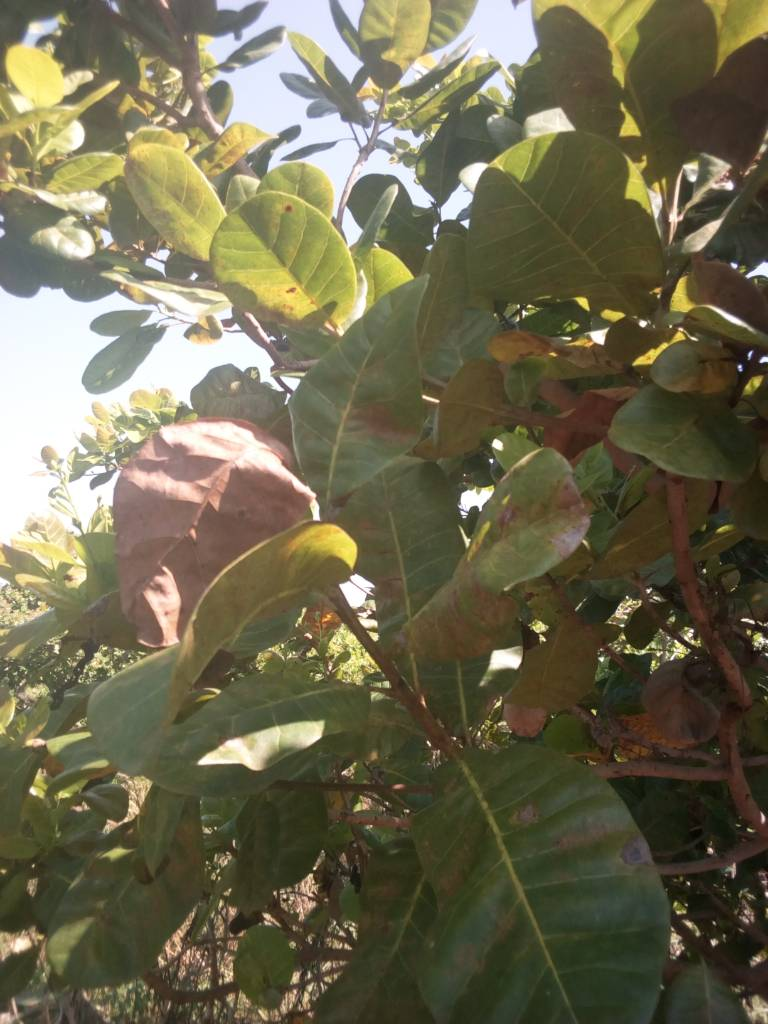Bactériose: (411, 449, 590, 653)
